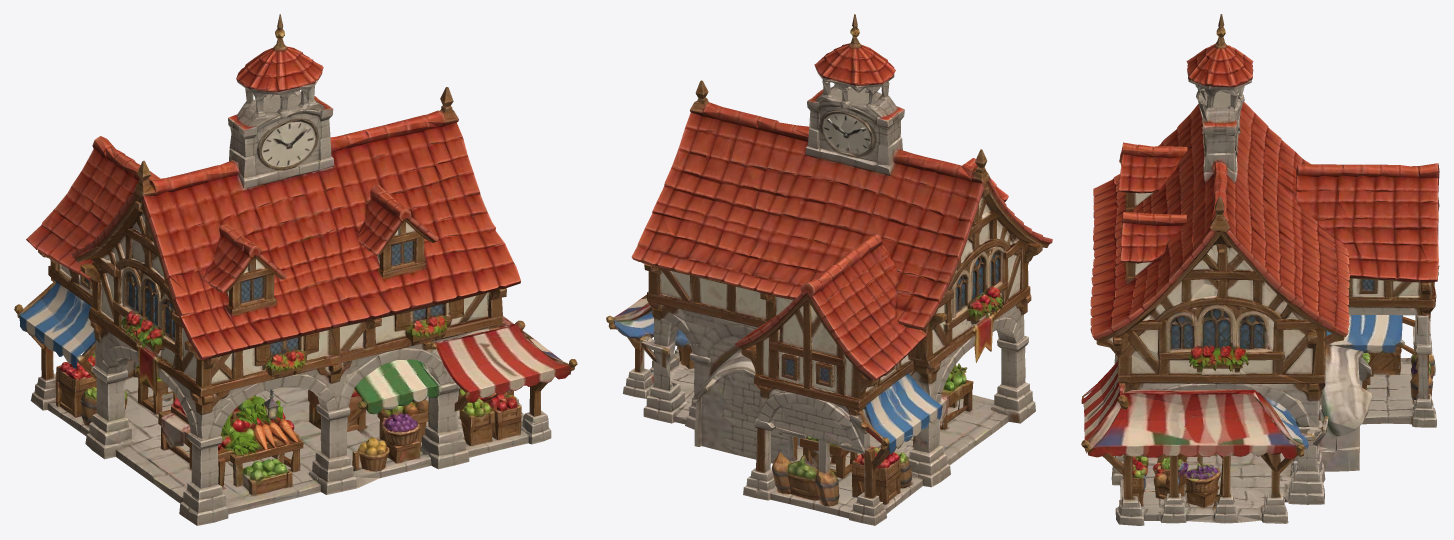
The model's file is bld_markethall.glb.
3 renders of one model, left to right at view 1: azimuth 30°, elevation 25°; view 2: azimuth 150°, elevation 25°; view 3: azimuth 270°, elevation 25°, orthographic. The views are drawn at different scales.
Visible parts, largest first — view 1: output_unwrapped; view 2: output_unwrapped; view 3: output_unwrapped.
Boxes of the visible parts, x1=… form: output_unwrapped: x1=14, y1=14, x2=577, y2=525; output_unwrapped: x1=606, y1=14, x2=1052, y2=525; output_unwrapped: x1=1081, y1=14, x2=1439, y2=525.
Bounding box in the file's own units: 1.72 × 1.9 × 1.5.
1 material, 1 textured.
